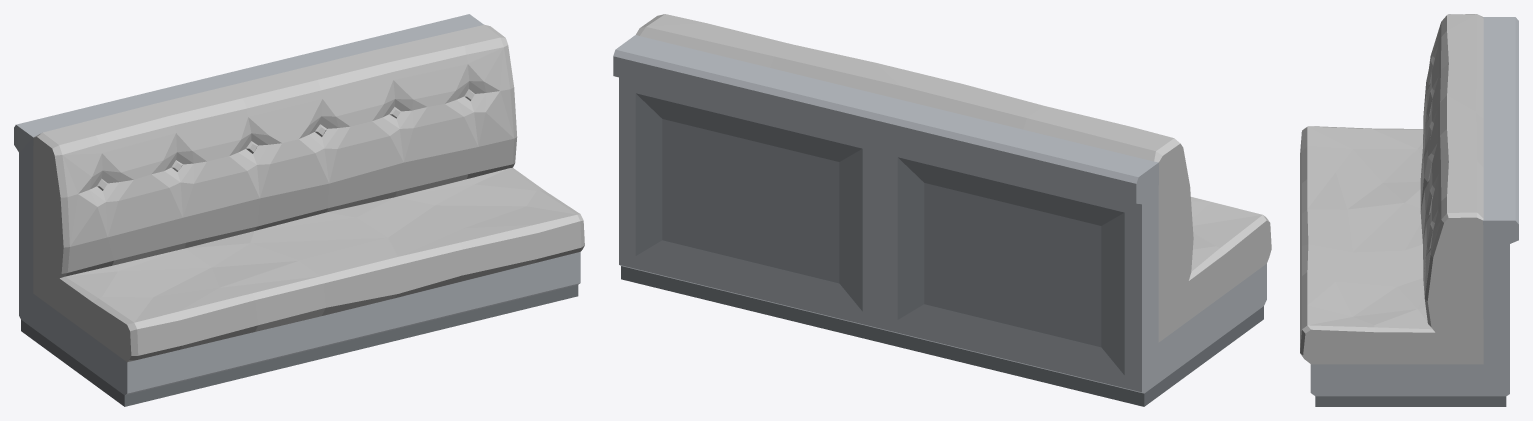
File: SM_Prop_Sofa_03_Straight_01.fbx
3 views of the same model, side by side, from view 1: azimuth 30°, elevation 25°; view 2: azimuth 150°, elevation 25°; view 3: azimuth 270°, elevation 25° (orthographic). The views are drawn at different scales.
Visible parts, largest first — view 1: SM_Prop_Sofa_03_Straight_01; view 2: SM_Prop_Sofa_03_Straight_01; view 3: SM_Prop_Sofa_03_Straight_01.
Part boxes in pixels (left/top/right/bottom): SM_Prop_Sofa_03_Straight_01: left=14, top=14, right=584, bottom=406; SM_Prop_Sofa_03_Straight_01: left=613, top=14, right=1271, bottom=406; SM_Prop_Sofa_03_Straight_01: left=1300, top=14, right=1518, bottom=406.
Size of the model in its own units: 250 by 111 by 114.
